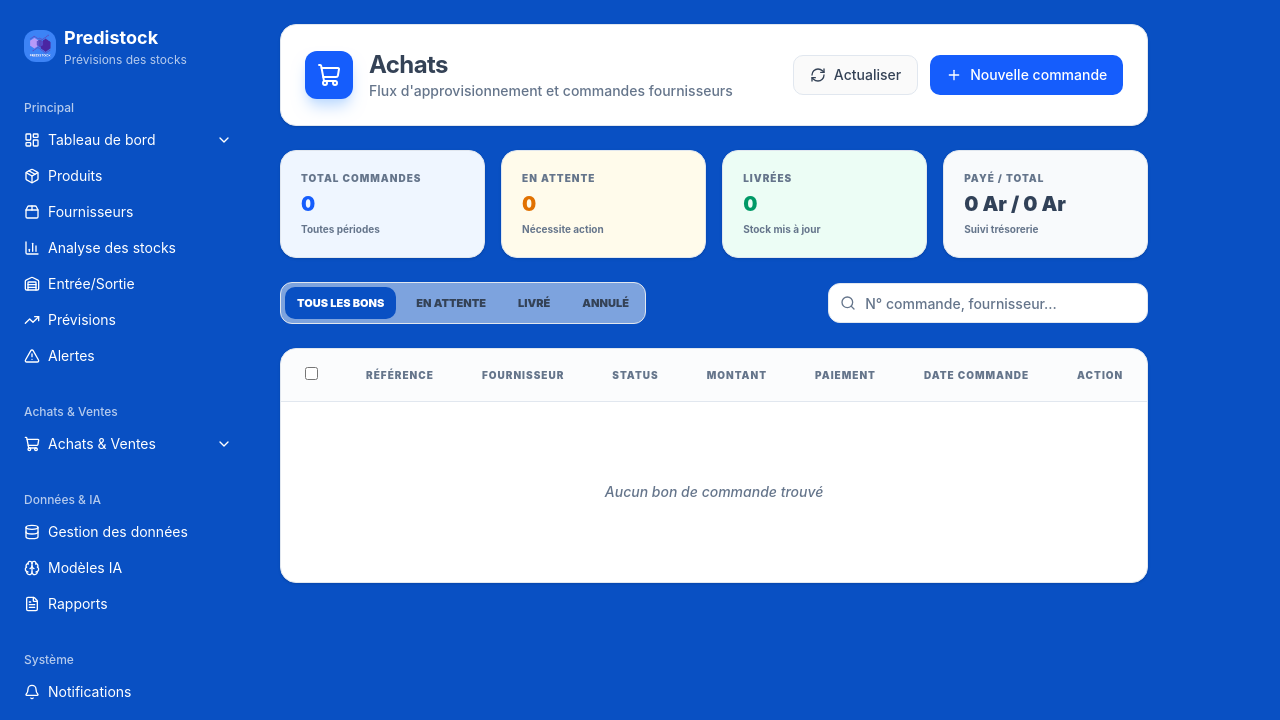
it: Intégration — l'interface Achats & Ventes est complète et accessible › l'écran « Remboursements » se charge sans erreur et affiche son titre
Click the button "Achats & Ventes": (128, 444) [16,428,240,460]
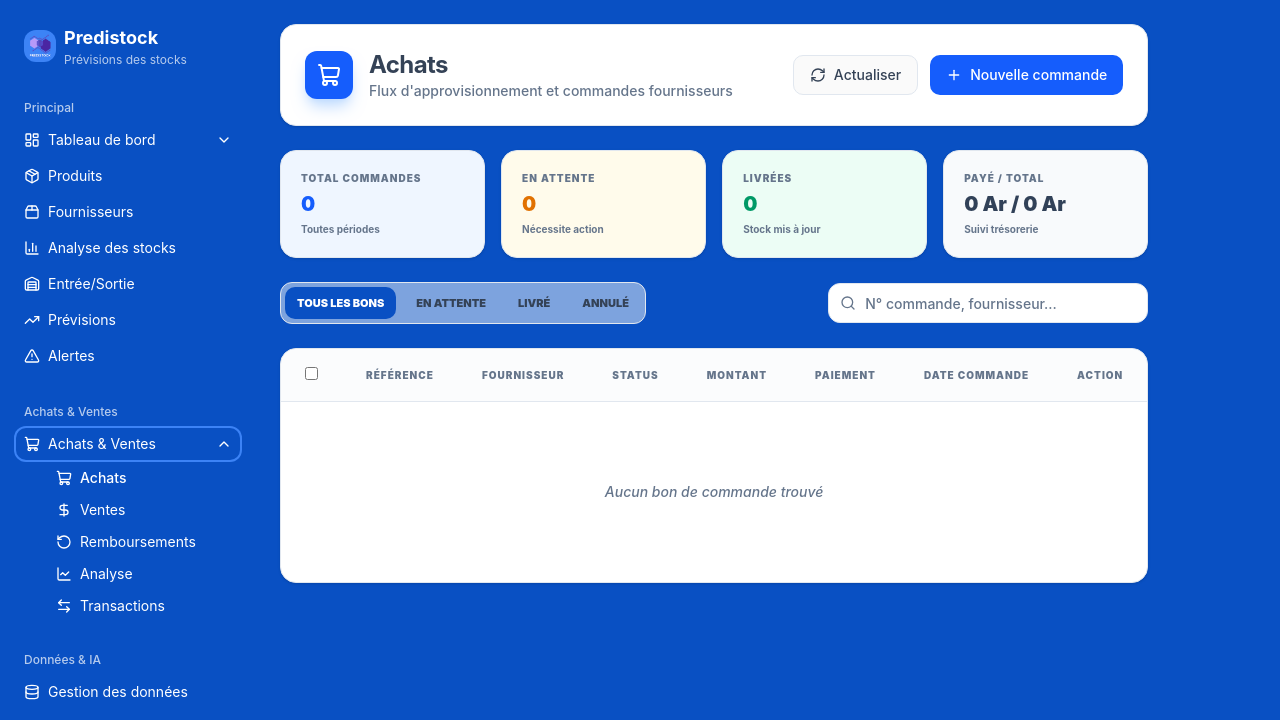
Click the link "Remboursements": (138, 542) [80,532,196,552]
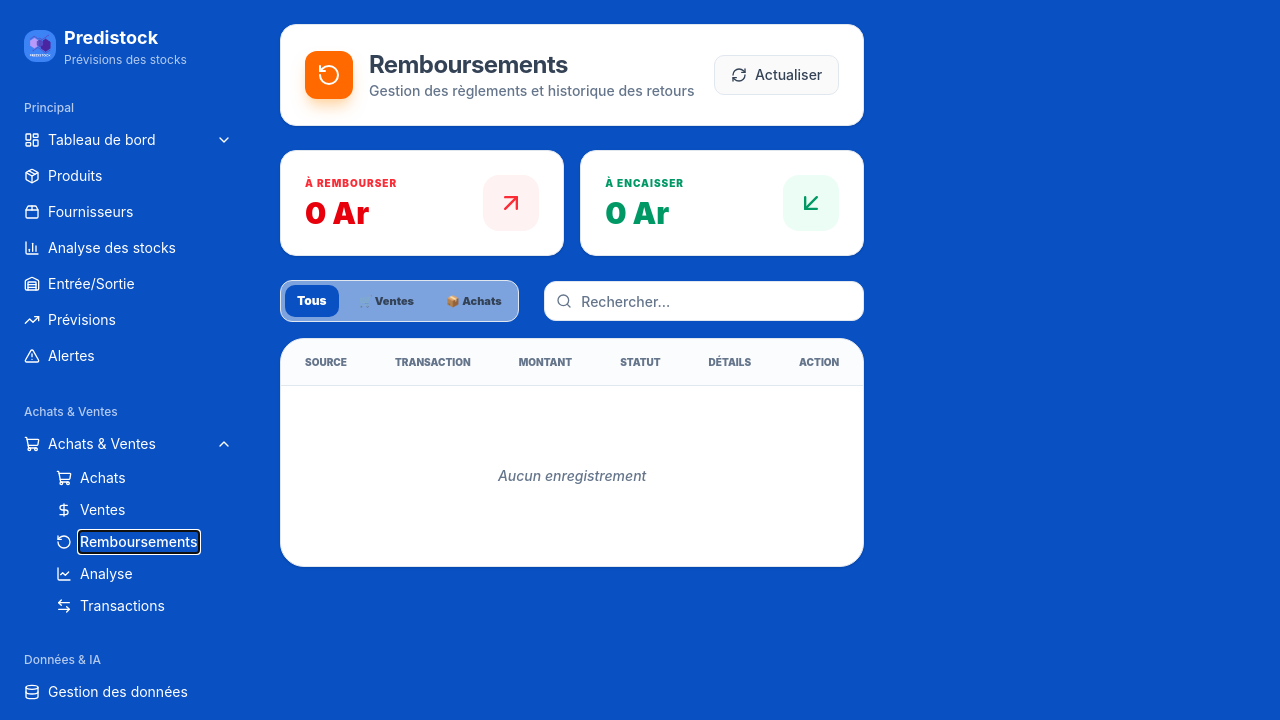
Expected: the heading "Remboursements" is shown, [369,50,568,79]
